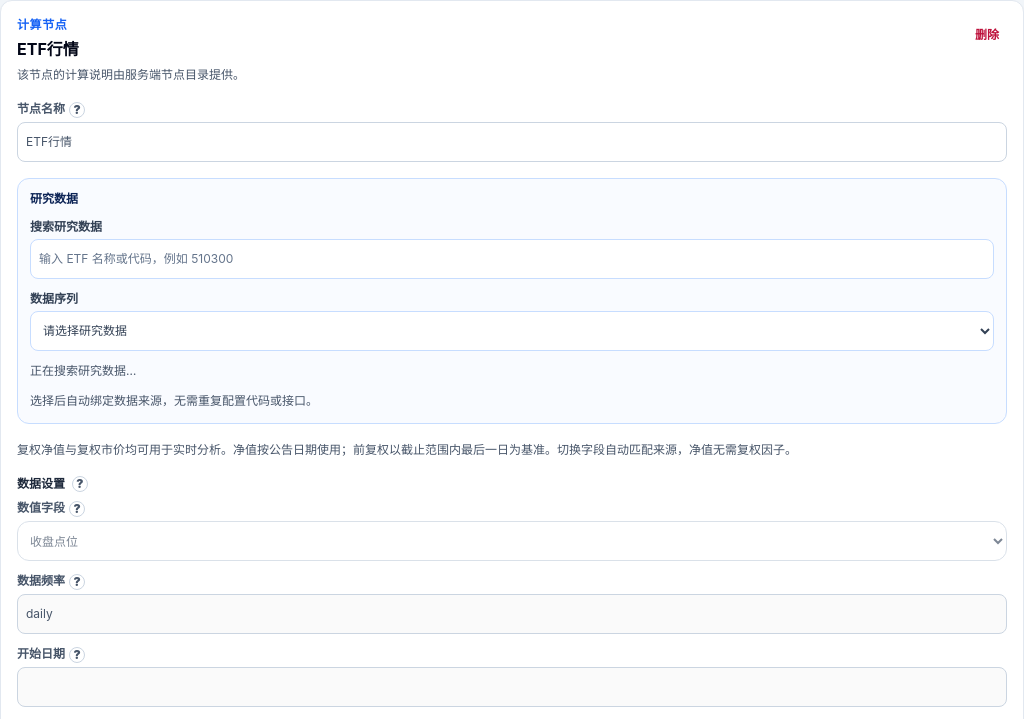
Test: 新增 etf 行情只选一次产品，字段与来源自动绑定
This screenshot has width=1024, height=719.
Type "沪深300ETF" into the search field labelled "搜索研究数据" at (512, 259), box x1=30 y1=239 x2=994 y2=279
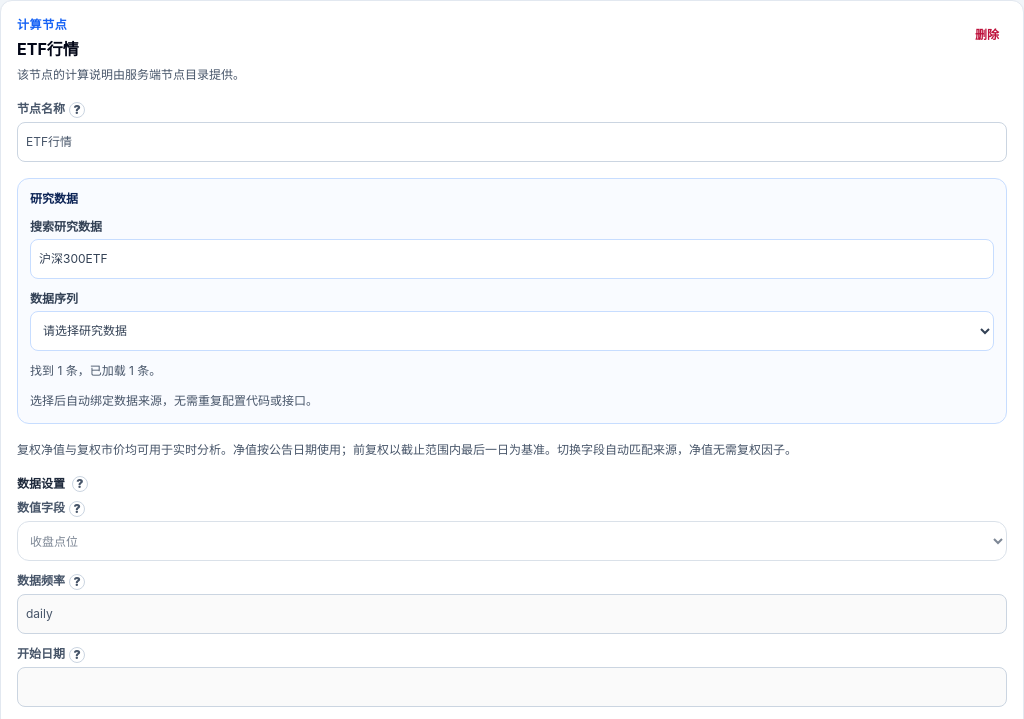
Select "沪深300ETF · 510300.SH" in the dropdown named "节点研究数据序列" at (512, 331), box x1=30 y1=311 x2=994 y2=351
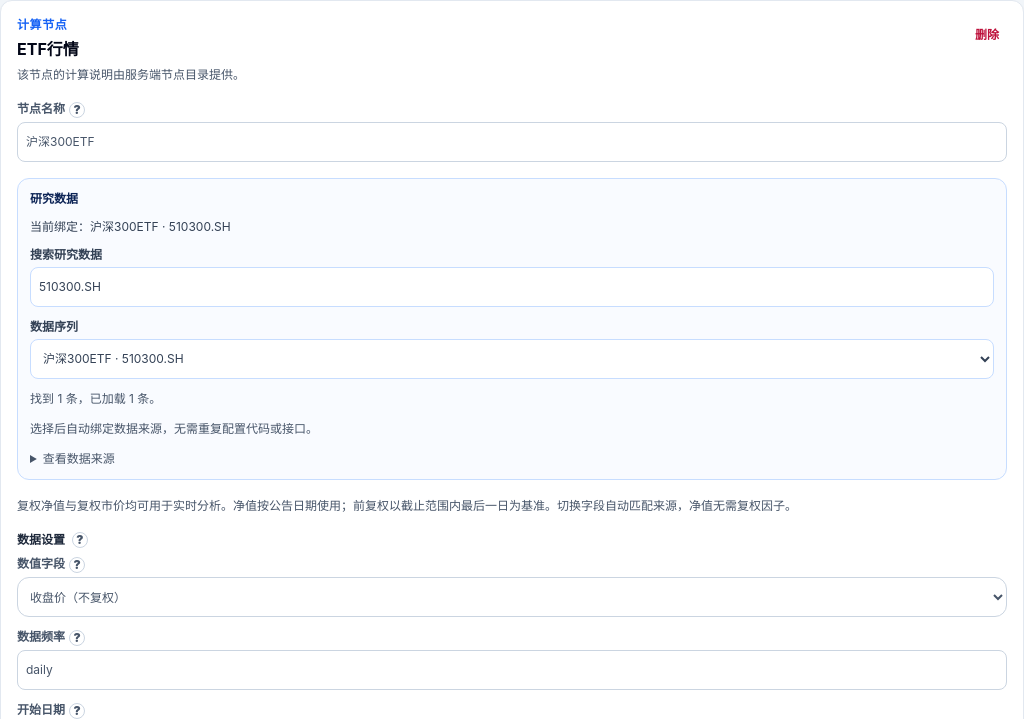
expect the dropdown labelled "数值字段" shows "收盘价（不复权）": met, box x1=17 y1=577 x2=1007 y2=617
